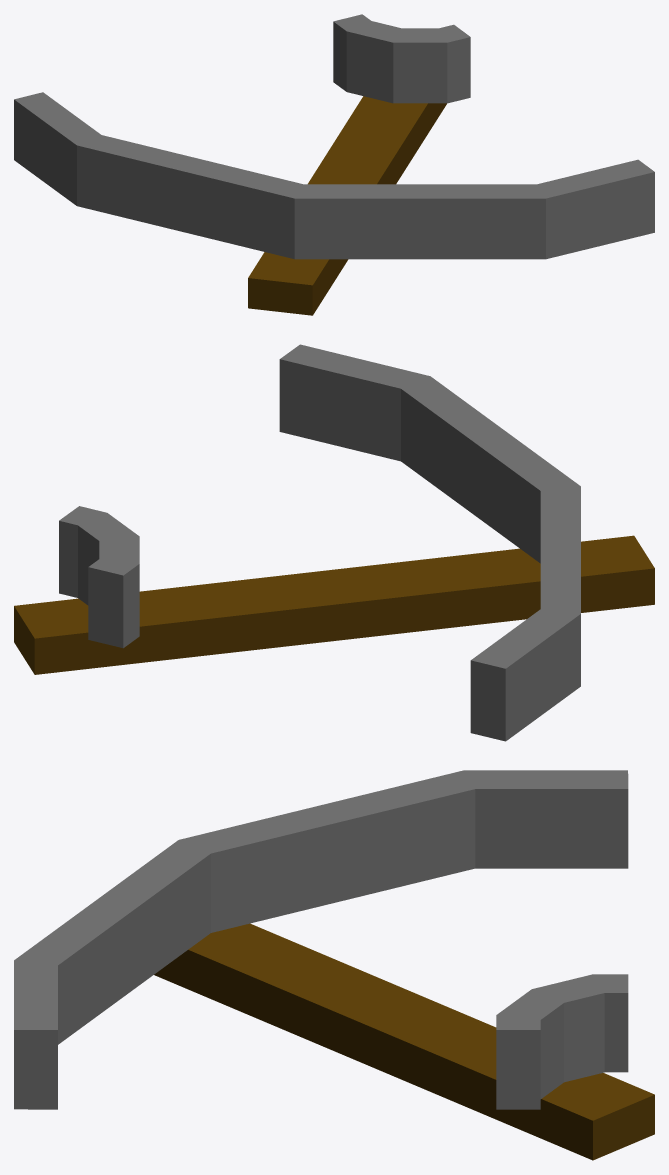
The model's file is track_turn.gltf.
The picture shows the model from 3 angles, top to bottom: view 1: azimuth 30°, elevation 25°; view 2: azimuth 150°, elevation 25°; view 3: azimuth 270°, elevation 25°; orthographic projection. The views are drawn at different scales.
Parts seen in each view (by area): view 1: cube; view 2: cube; view 3: cube.
Boxes of the visible parts, box(x1,y1,x2,y2) form: cube: box(14, 14, 654, 315); cube: box(14, 344, 654, 741); cube: box(14, 770, 654, 1160).
Size of the model in its own units: 9.13 by 1.88 by 9.13.
1 material, 1 textured.
